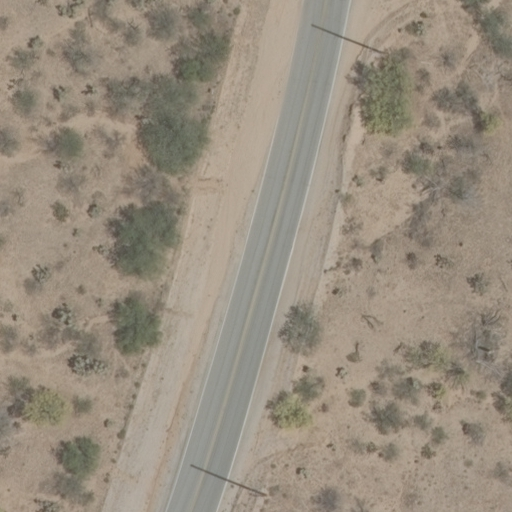DT: (364, 42, 389, 63), (245, 485, 269, 502)
